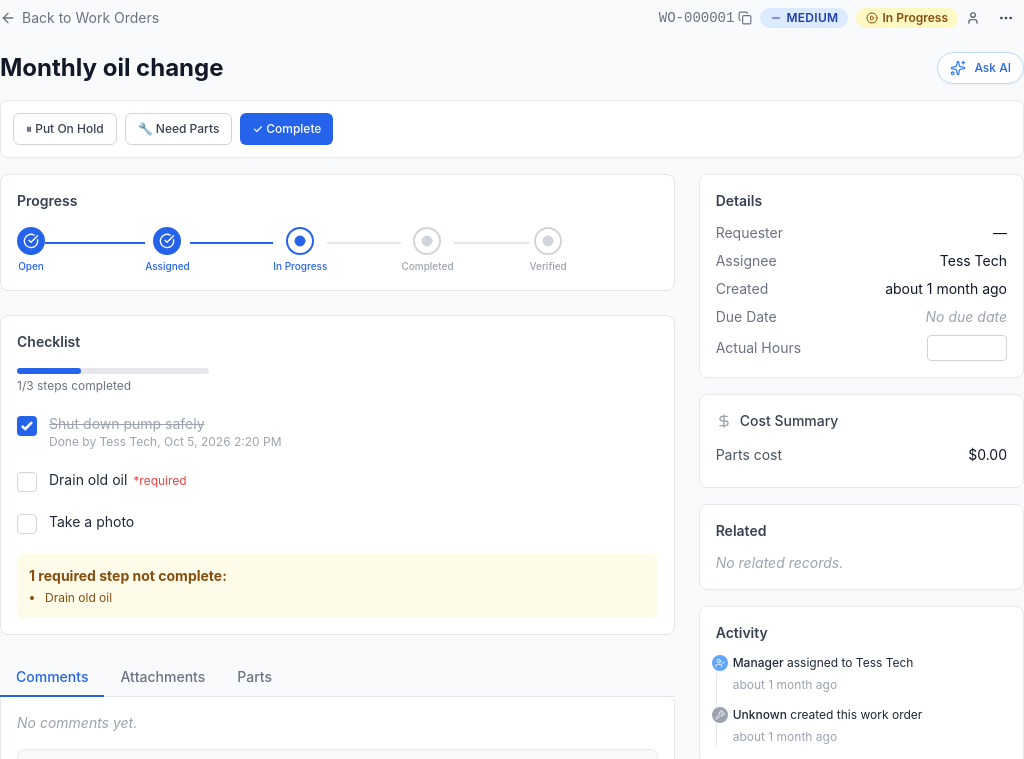
Test: the checklist on a work order › ticks a step at once and sends only that step
Click the checkbox labelled "Drain old oil": x=27, y=482 17,472 -> 37,492
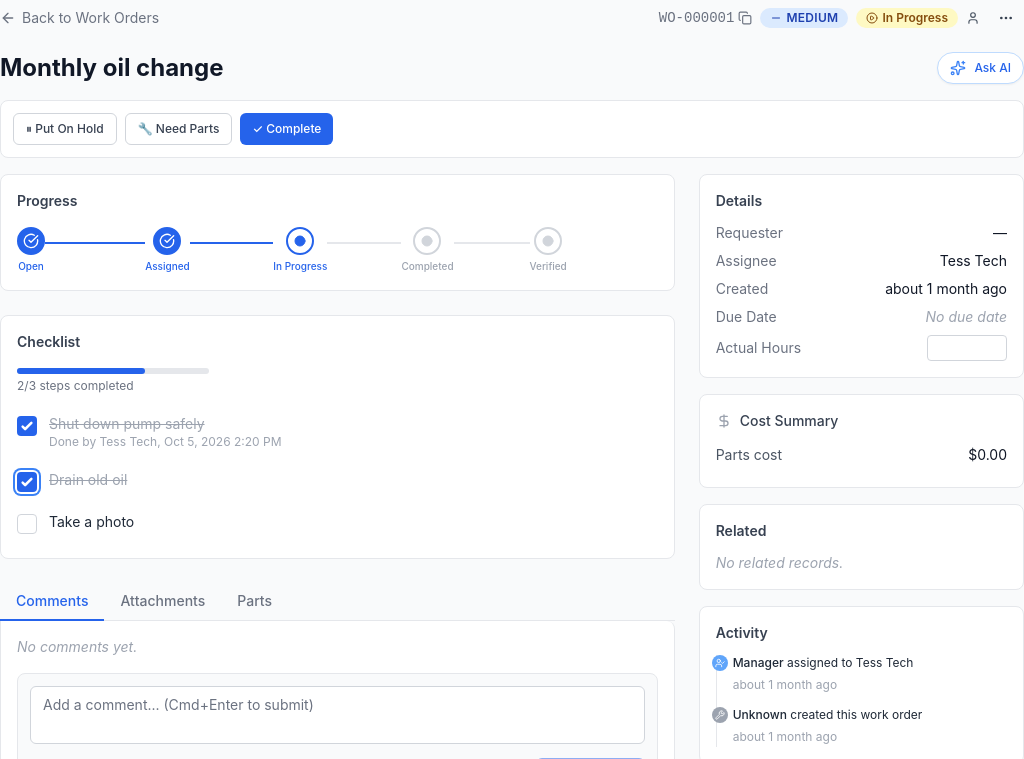
Now the checkbox labelled "Drain old oil" is checked, box 17,472 -> 37,492
Now the text "2/3 steps completed" is shown, box 17,378 -> 134,393
